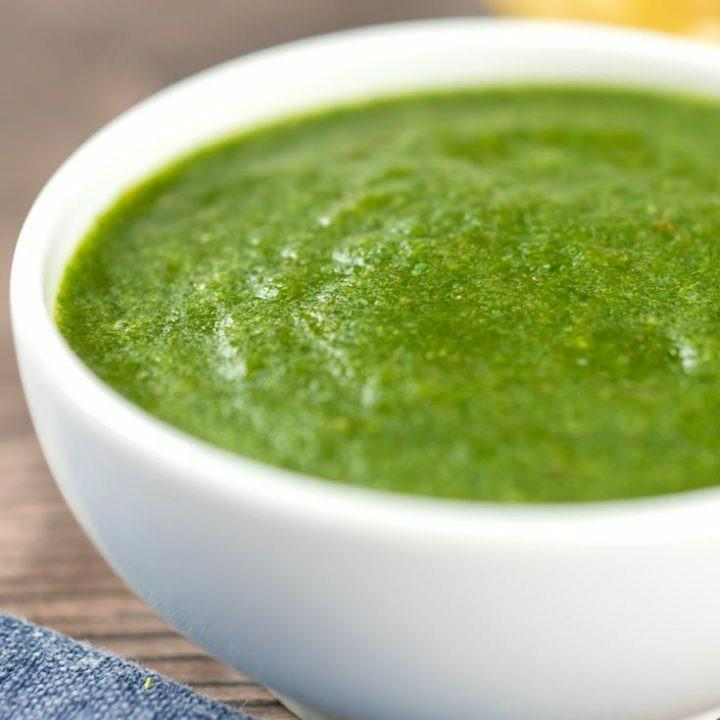GreenChutney: (57, 84, 720, 505)
